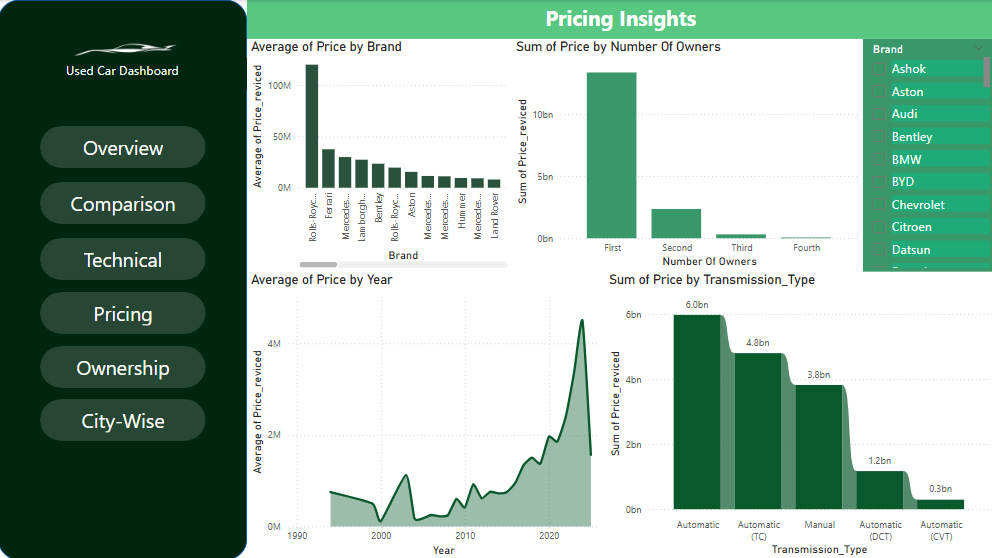

What the dashboard file says about the page in this screenshot:
{"tool":"powerbi","page":{"name":"Pricing","canvas":[1280,720],"ordinal":4},"visuals":[{"type":"shape","box":[0,0,320,719.7],"z":0},{"type":"actionButton","box":[54,161.9,213.3,54],"z":1000},{"type":"actionButton","box":[54,233.9,213.3,54],"z":2000},{"type":"actionButton","box":[54,305.9,213.3,54],"z":3000},{"type":"actionButton","box":[54,375.3,213.3,54],"z":4000},{"type":"actionButton","box":[54,444.7,213.3,54],"z":5000},{"type":"actionButton","box":[54,512.8,213.3,54],"z":6000},{"type":"textbox","box":[320,0,960,50],"z":7000},{"type":"clusteredColumnChart","title":"Average of Price by Brand","fields":{"Y":["Avg(Worksheet.Price_reviced)"],"Category":["Worksheet.Brand"]},"box":[320,50.1,340.6,299.4],"z":8000},{"type":"stackedAreaChart","title":"Average of Price by Year","fields":{"Category":["Worksheet.Manufacturing Year.Variation.Date Hierarchy.Year","Worksheet.Origin"],"Y":["Avg(Worksheet.Price_reviced)"]},"box":[320,349.6,460.1,370.1],"z":9000},{"type":"columnChart","title":"Sum of Price by Number Of Owners","fields":{"Category":["Worksheet.Number Of Owners"],"Y":["Sum(Worksheet.Price_reviced)"]},"box":[660.6,50.1,451.1,299.4],"z":10000},{"type":"columnChart","title":"Sum of Price by Transmission_Type","fields":{"Y":["Sum(Worksheet.Price_reviced)"],"Category":["Worksheet.Transmission_Type"]},"box":[780.1,349.6,499.9,368.8],"z":11000},{"type":"slicer","fields":{"Values":["Worksheet.Brand"]},"box":[1111.6,50.1,168.4,299.4],"z":12000},{"type":"image","box":[0,0,320,125.9],"z":12001},{"type":"textbox","box":[0,74.5,320,41.1],"z":12002}]}

Visuals, with their boxes in screenshot pixels (x1, y1, x2, y2), scaled from the page's 1280x720 canvas onto the 992x558 screenshot:
shape: bbox=(0, 0, 248, 557)
actionButton: bbox=(42, 125, 207, 167)
actionButton: bbox=(42, 181, 207, 223)
actionButton: bbox=(42, 237, 207, 279)
actionButton: bbox=(42, 291, 207, 333)
actionButton: bbox=(42, 345, 207, 386)
actionButton: bbox=(42, 397, 207, 439)
textbox: bbox=(248, 0, 991, 39)
"Average of Price by Brand" clusteredColumnChart: bbox=(248, 39, 512, 271)
"Average of Price by Year" stackedAreaChart: bbox=(248, 271, 605, 557)
"Sum of Price by Number Of Owners" columnChart: bbox=(512, 39, 862, 271)
"Sum of Price by Transmission_Type" columnChart: bbox=(605, 271, 991, 557)
slicer - Worksheet.Brand: bbox=(861, 39, 991, 271)
image: bbox=(0, 0, 248, 98)
textbox: bbox=(0, 58, 248, 90)
